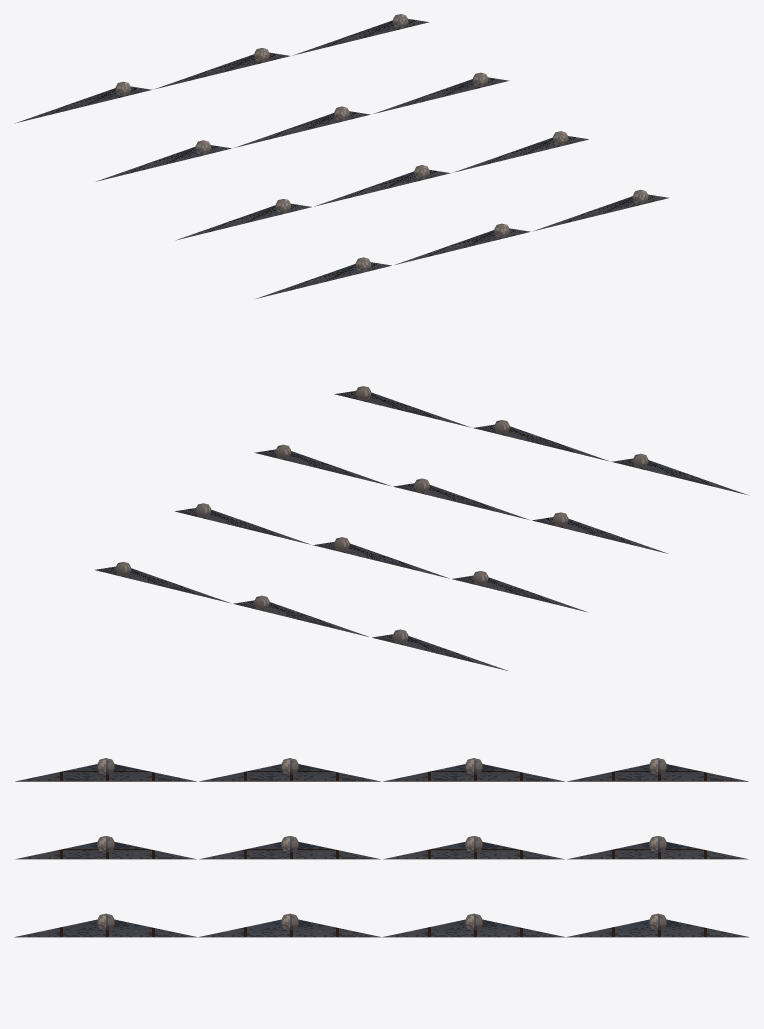
The model's file is dgn.ceiling__groin_3x4.glb.
The picture shows the model from 3 angles, top to bottom: view 1: azimuth 30°, elevation 25°; view 2: azimuth 150°, elevation 25°; view 3: azimuth 270°, elevation 25°; orthographic projection. The views are drawn at different scales.
Visible parts, largest first — view 1: kit_shell_groin, kit_boss; view 2: kit_shell_groin, kit_boss; view 3: kit_shell_groin, kit_boss.
Boxes of the visible parts, x1,y1,x2,y2 form: kit_shell_groin: (15, 19, 668, 298); kit_boss: (115, 14, 648, 271); kit_shell_groin: (95, 391, 748, 670); kit_boss: (115, 386, 648, 643); kit_shell_groin: (14, 764, 749, 937); kit_boss: (97, 758, 666, 929).
Size of the model in its own units: 12 by 1.48 by 16.
Materials: 2 (2 with a texture image).
